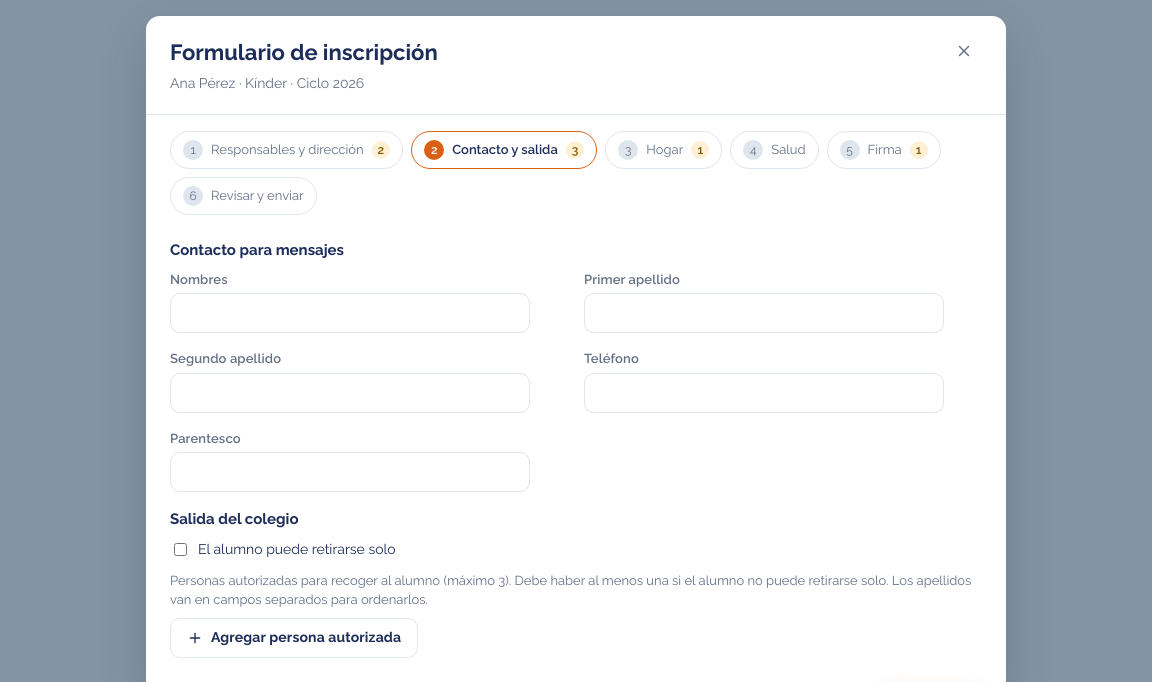
Test: formulario de inscripción por pasos › sin permiso médico el paso Salud no muestra ni guarda datos de salud
The image size is (1152, 682).
Click the button "4 Salud" at (774, 150), box [730,131,819,169]
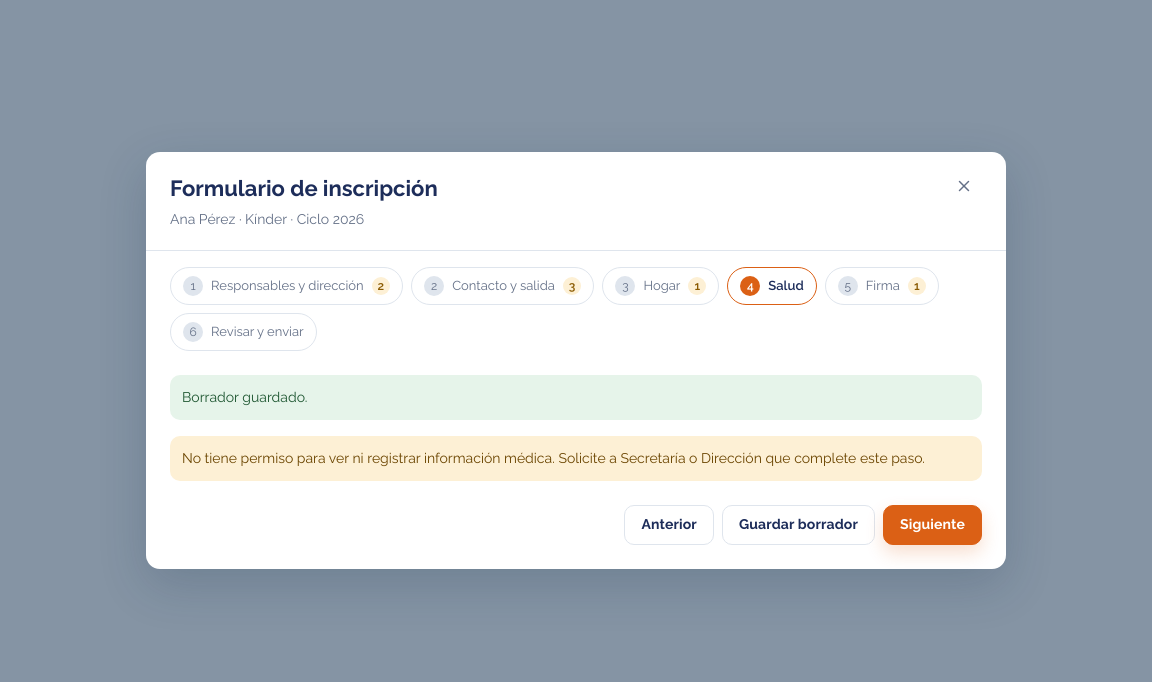
Expected: the text "No tiene permiso para ver ni registrar información médica" is shown, [182,450,925,466]
Click the button "Siguiente" at (932, 524), box [883,504,982,544]
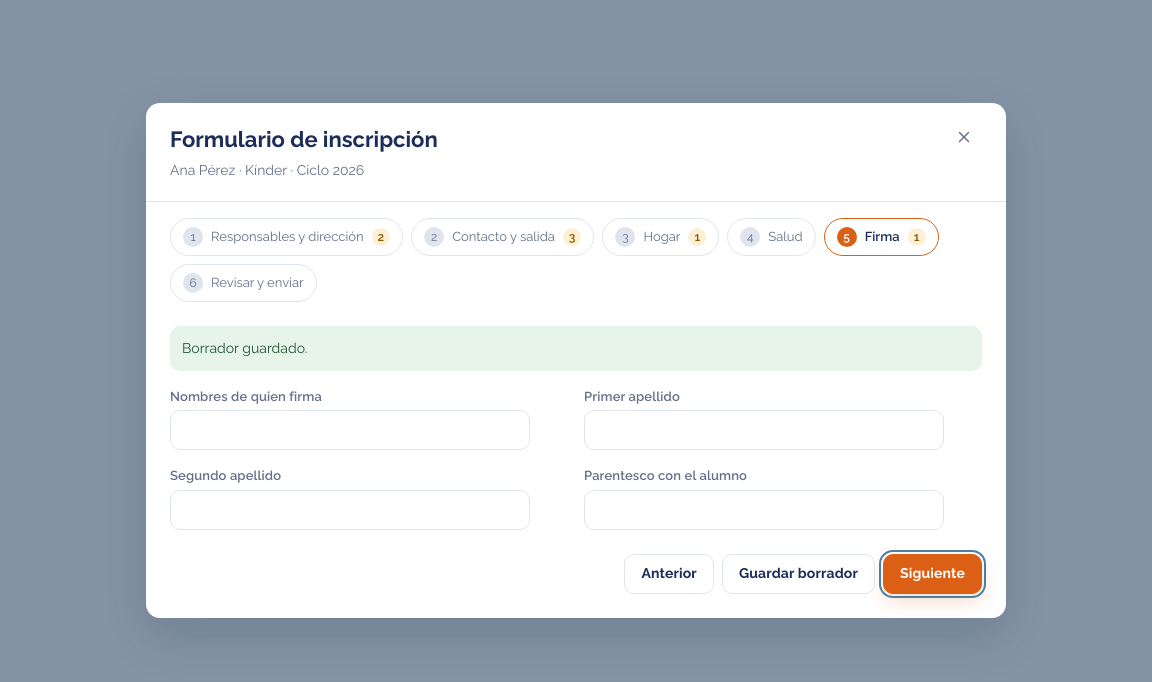
Expected: the field labelled "Nombres de quien firma" is shown, [170,410,530,450]
